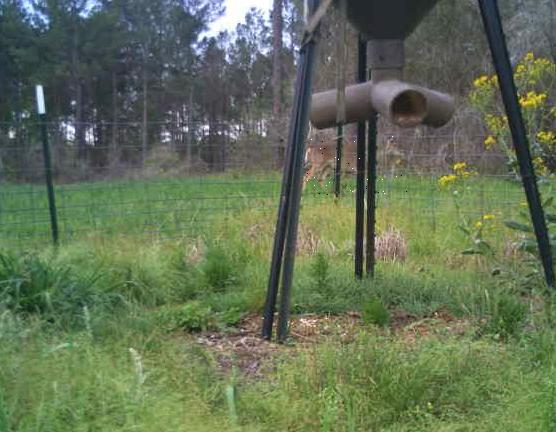Deer: (306, 135, 407, 197)
